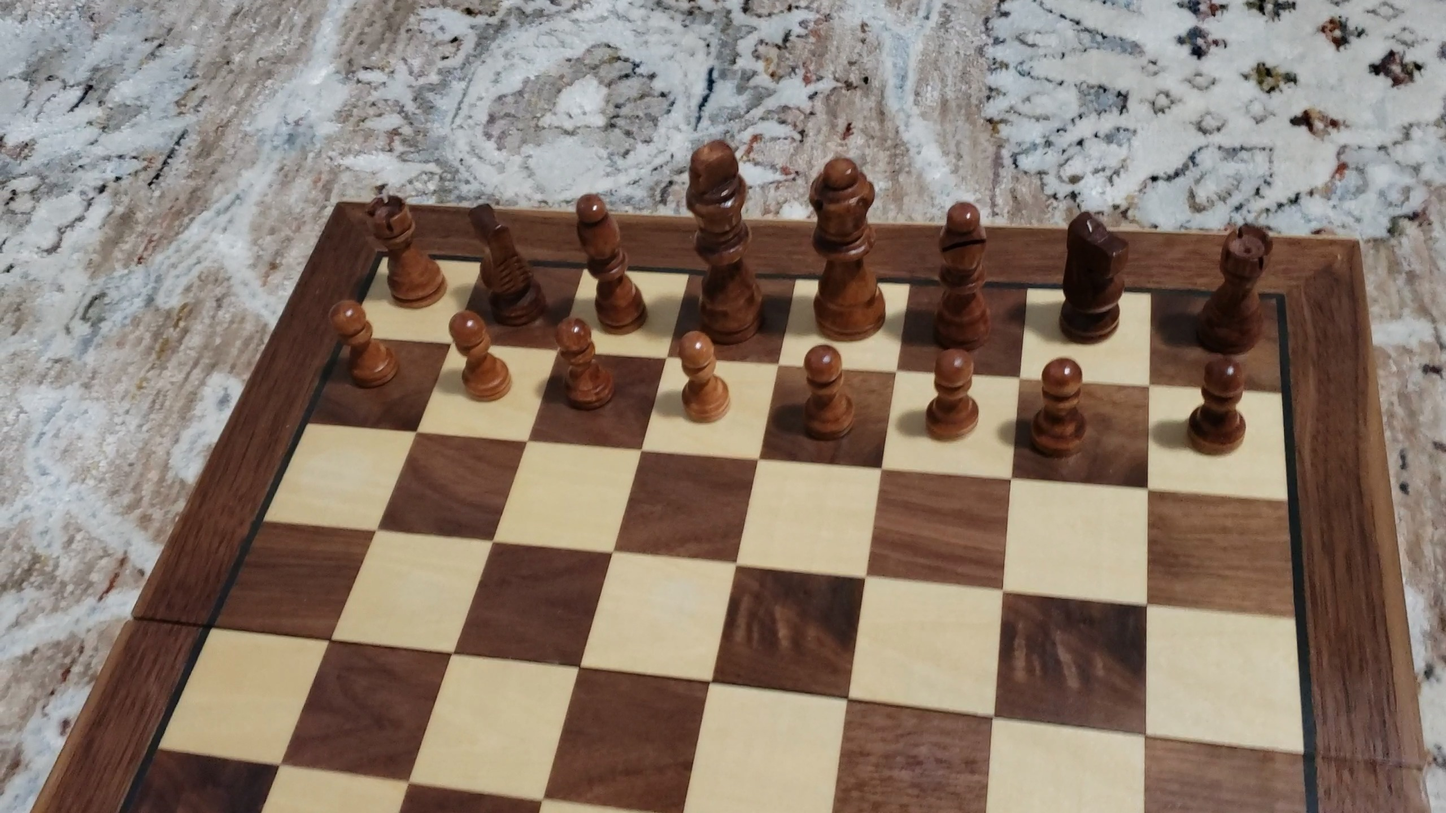black-bishop: (572, 191, 648, 333), (933, 199, 991, 352)
black-king: (683, 134, 763, 345)
black-knight: (1056, 208, 1131, 342), (467, 199, 543, 326)
black-pawn: (1185, 353, 1250, 458), (327, 297, 399, 391), (445, 309, 514, 404), (551, 316, 617, 413), (1030, 355, 1089, 461), (798, 341, 858, 444), (921, 346, 982, 445), (676, 329, 731, 426)
black-queen: (803, 151, 888, 341)
black-rook: (1190, 221, 1275, 355), (363, 182, 447, 307)
